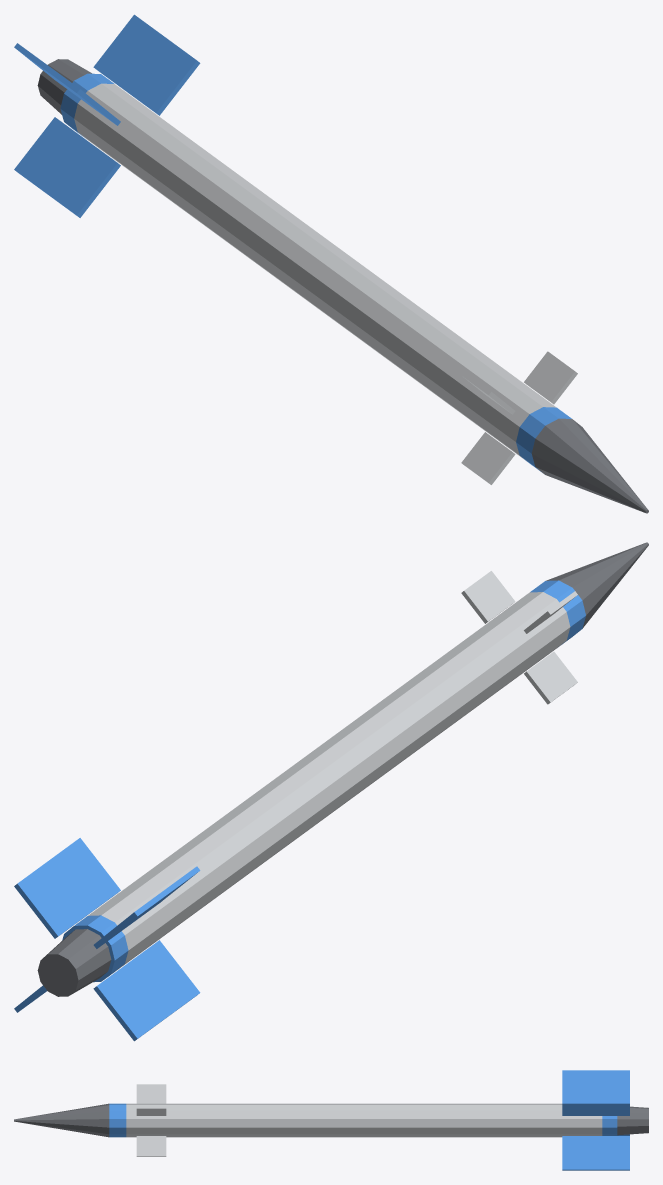
The model's file is Interceptor_ShortRange_01.fbx.
The picture shows the model from 3 angles, top to bottom: view 1: azimuth 30°, elevation 25°; view 2: azimuth 150°, elevation 25°; view 3: azimuth 270°, elevation 25°; orthographic projection. The views are drawn at different scales.
Visible parts, largest first — view 1: Interceptor_ShortRange_01_Structure, Interceptor_ShortRange_01_Accent, Interceptor_ShortRange_01_Trim; view 2: Interceptor_ShortRange_01_Structure, Interceptor_ShortRange_01_Accent, Interceptor_ShortRange_01_Trim; view 3: Interceptor_ShortRange_01_Structure, Interceptor_ShortRange_01_Accent, Interceptor_ShortRange_01_Trim.
Boxes of the visible parts, <box> form: Interceptor_ShortRange_01_Structure: <box>74,83,577,484</box>; Interceptor_ShortRange_01_Accent: <box>14,14,571,471</box>; Interceptor_ShortRange_01_Trim: <box>37,59,648,513</box>; Interceptor_ShortRange_01_Structure: <box>88,571,577,969</box>; Interceptor_ShortRange_01_Accent: <box>14,580,585,1041</box>; Interceptor_ShortRange_01_Trim: <box>37,542,648,996</box>; Interceptor_ShortRange_01_Structure: <box>126,1084,602,1156</box>; Interceptor_ShortRange_01_Accent: <box>109,1070,629,1170</box>; Interceptor_ShortRange_01_Trim: <box>14,1103,648,1137</box>.
Size of the model in its own units: 0.3635 by 0.3635 by 3.
